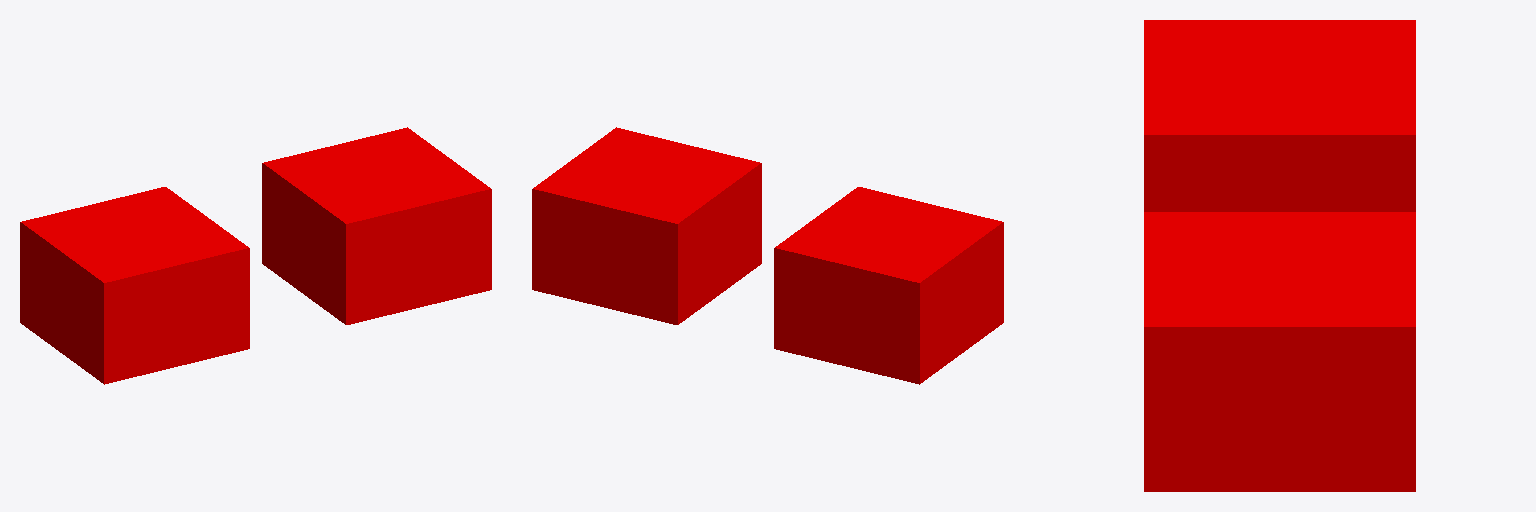
URDF robot description (test_robot):
<robot name="test_robot">
  <material name="red">
    <color rgba="1.0 0.0 0.0 1.0"/>
  </material>

  <link name="base_link"/>

  <joint name="body1_joint" type="fixed">
    <parent link="base_link"/>
    <child  link="body1_link"/>
  </joint>
  <link name="body1_link">
    <visual>
      <geometry>
        <box size="0.3 0.3 0.2"/>
      </geometry>
      <origin xyz="0 0 0" rpy="0 0 0"/>
      <material name="red"/>
      </visual>
  </link>

  <joint name="body2_joint" type="fixed">
    <parent link="base_link"/>
    <child  link="body2_link"/>
    <origin xyz="0.5 0 0" rpy="0 0 0"/>
  </joint>
  <link name="body2_link">
    <visual>
      <geometry>
        <box size="0.3 0.3 0.2"/>
      </geometry>
      <origin xyz="0 0 0" rpy="0 0 0"/>
      <material name="red"/>
    </visual>
  </link>
</robot>

--- Render facts (derived) ---
Views: 3 orthographic renders of the robot side by side, from view 1: azimuth 30°, elevation 25°; view 2: azimuth 150°, elevation 25°; view 3: azimuth 270°, elevation 25°.
Model test_robot with 3 links and 2 joints (2 fixed), rooted at base_link, posed all joints at 0.
Links seen in each view (by area): view 1: body1_link, body2_link; view 2: body1_link, body2_link; view 3: body2_link, body1_link.
Boxes of the visible links, box(x1,y1,x2,y2) form: body1_link: box(20, 187, 249, 384); body2_link: box(262, 127, 491, 324); body1_link: box(774, 187, 1003, 384); body2_link: box(532, 127, 761, 324); body2_link: box(1144, 212, 1415, 491); body1_link: box(1144, 20, 1415, 211).
Size in the robot's own frame: 0.8 by 0.3 by 0.2 metres.
Geometry: primitives only (box / cylinder / sphere), no mesh files.